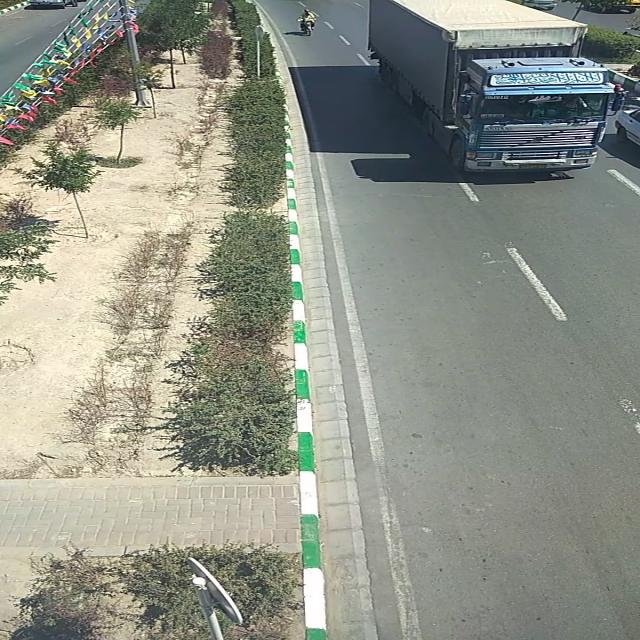motor: (294, 9, 320, 36)
truck: (369, 2, 624, 174)
